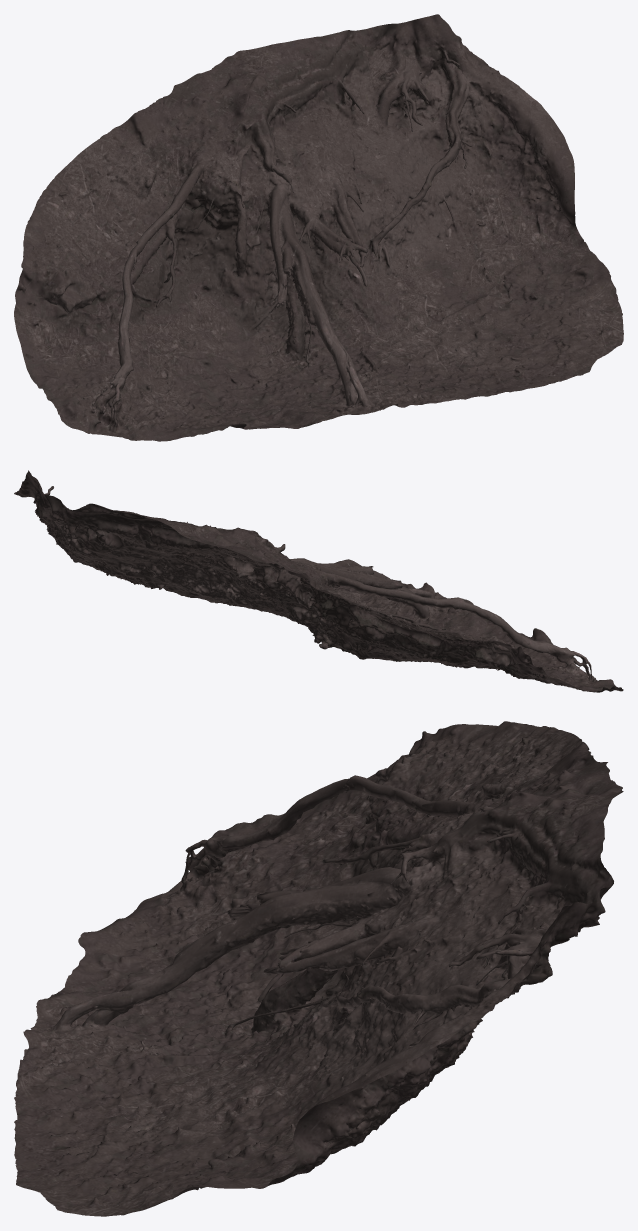
The model's file is root_cluster_01.gltf.
3 views of the same model, one above another, from view 1: azimuth 30°, elevation 25°; view 2: azimuth 150°, elevation 25°; view 3: azimuth 270°, elevation 25° (orthographic). The views are drawn at different scales.
Visible parts, largest first — view 1: root_cluster_01; view 2: root_cluster_01; view 3: root_cluster_01.
Part boxes in pixels (box(x1,y1,x2,y2)): root_cluster_01: box(14, 14, 623, 441); root_cluster_01: box(14, 470, 623, 692); root_cluster_01: box(14, 721, 623, 1216).
Bounding box in the file's own units: 4.12 × 1.51 × 2.68.
1 material, 1 textured.
